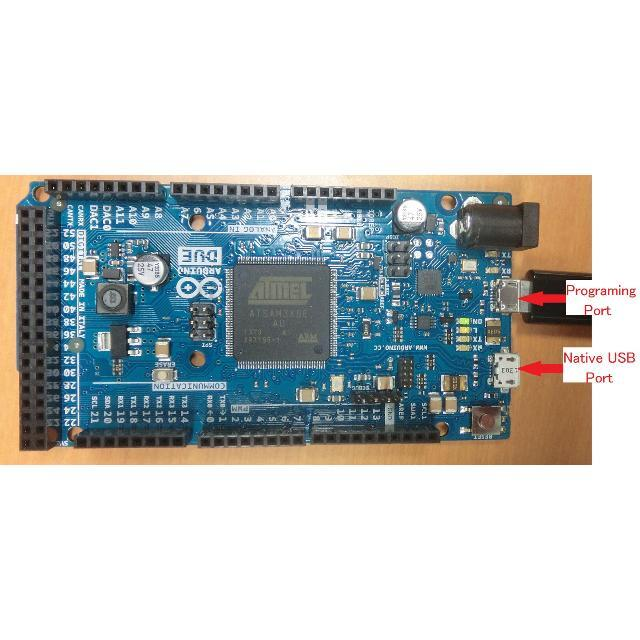Arduino-Due: (15, 177, 539, 450)
